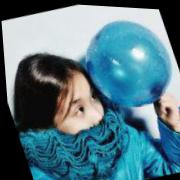WRONG: (51, 78, 118, 157)
